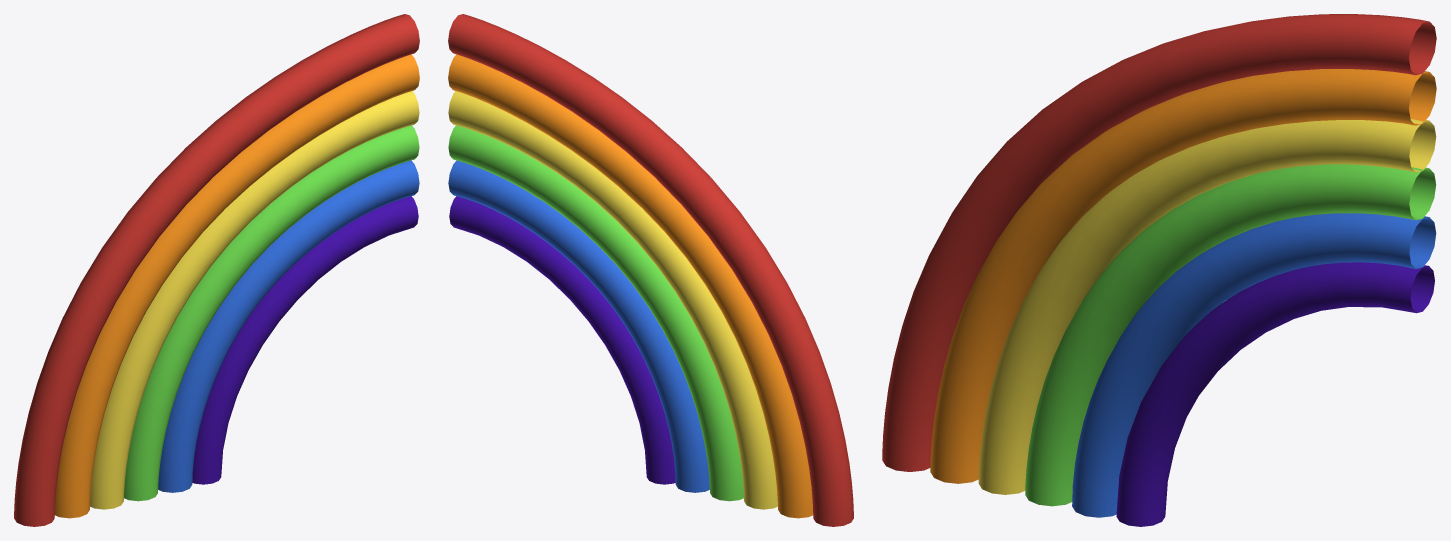
3 renders of one model, left to right at view 1: azimuth 30°, elevation 25°; view 2: azimuth 150°, elevation 25°; view 3: azimuth 330°, elevation 25°, orthographic. The views are drawn at different scales.
Visible parts, largest first — view 1: Rainbow; view 2: Rainbow; view 3: Rainbow.
Part boxes in pixels (x1,y1,x2,y2): Rainbow: (14,14,419,526); Rainbow: (448,14,853,526); Rainbow: (882,14,1436,526).
Size of the model in its own units: 0.6589 by 0.6594 by 0.0591.
